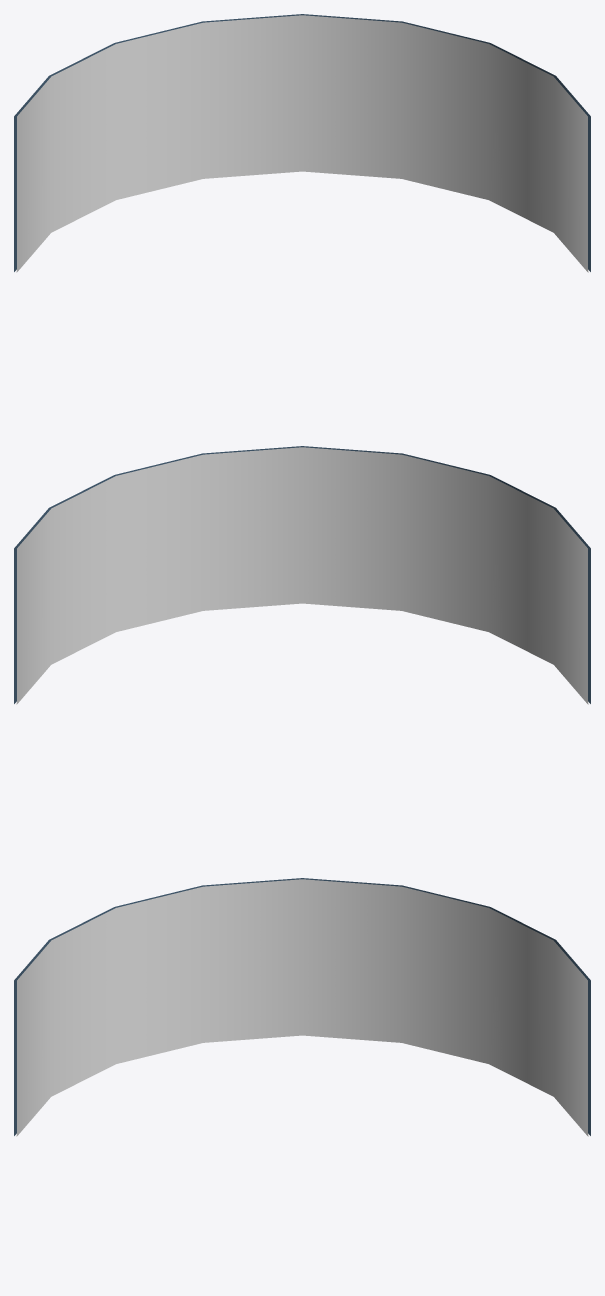
The model's file is sky_distant0001.glb.
3 renders of one model, top to bottom at view 1: azimuth 30°, elevation 25°; view 2: azimuth 150°, elevation 25°; view 3: azimuth 270°, elevation 25°, orthographic.
Parts seen in each view (by area): view 1: sky_distant0001; view 2: sky_distant0001; view 3: sky_distant0001.
Part boxes in pixels (bbox=[...]): sky_distant0001: bbox=[14, 14, 590, 272]; sky_distant0001: bbox=[14, 446, 590, 704]; sky_distant0001: bbox=[14, 878, 590, 1136].
Bounding box in the file's own units: 1.73 × 0.5081 × 1.7.
Materials: 2 (2 with a texture image).
